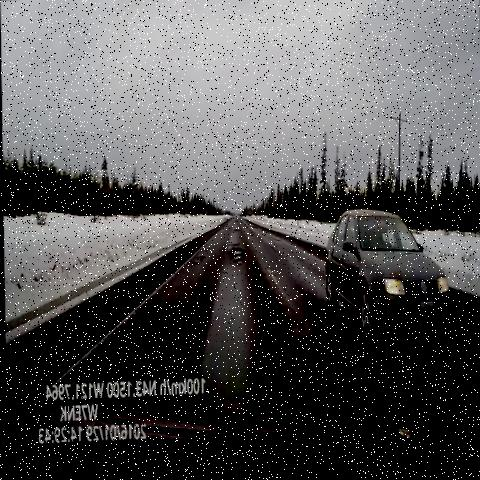pothole: (225, 240, 249, 273), (186, 250, 205, 276), (229, 224, 241, 239)
